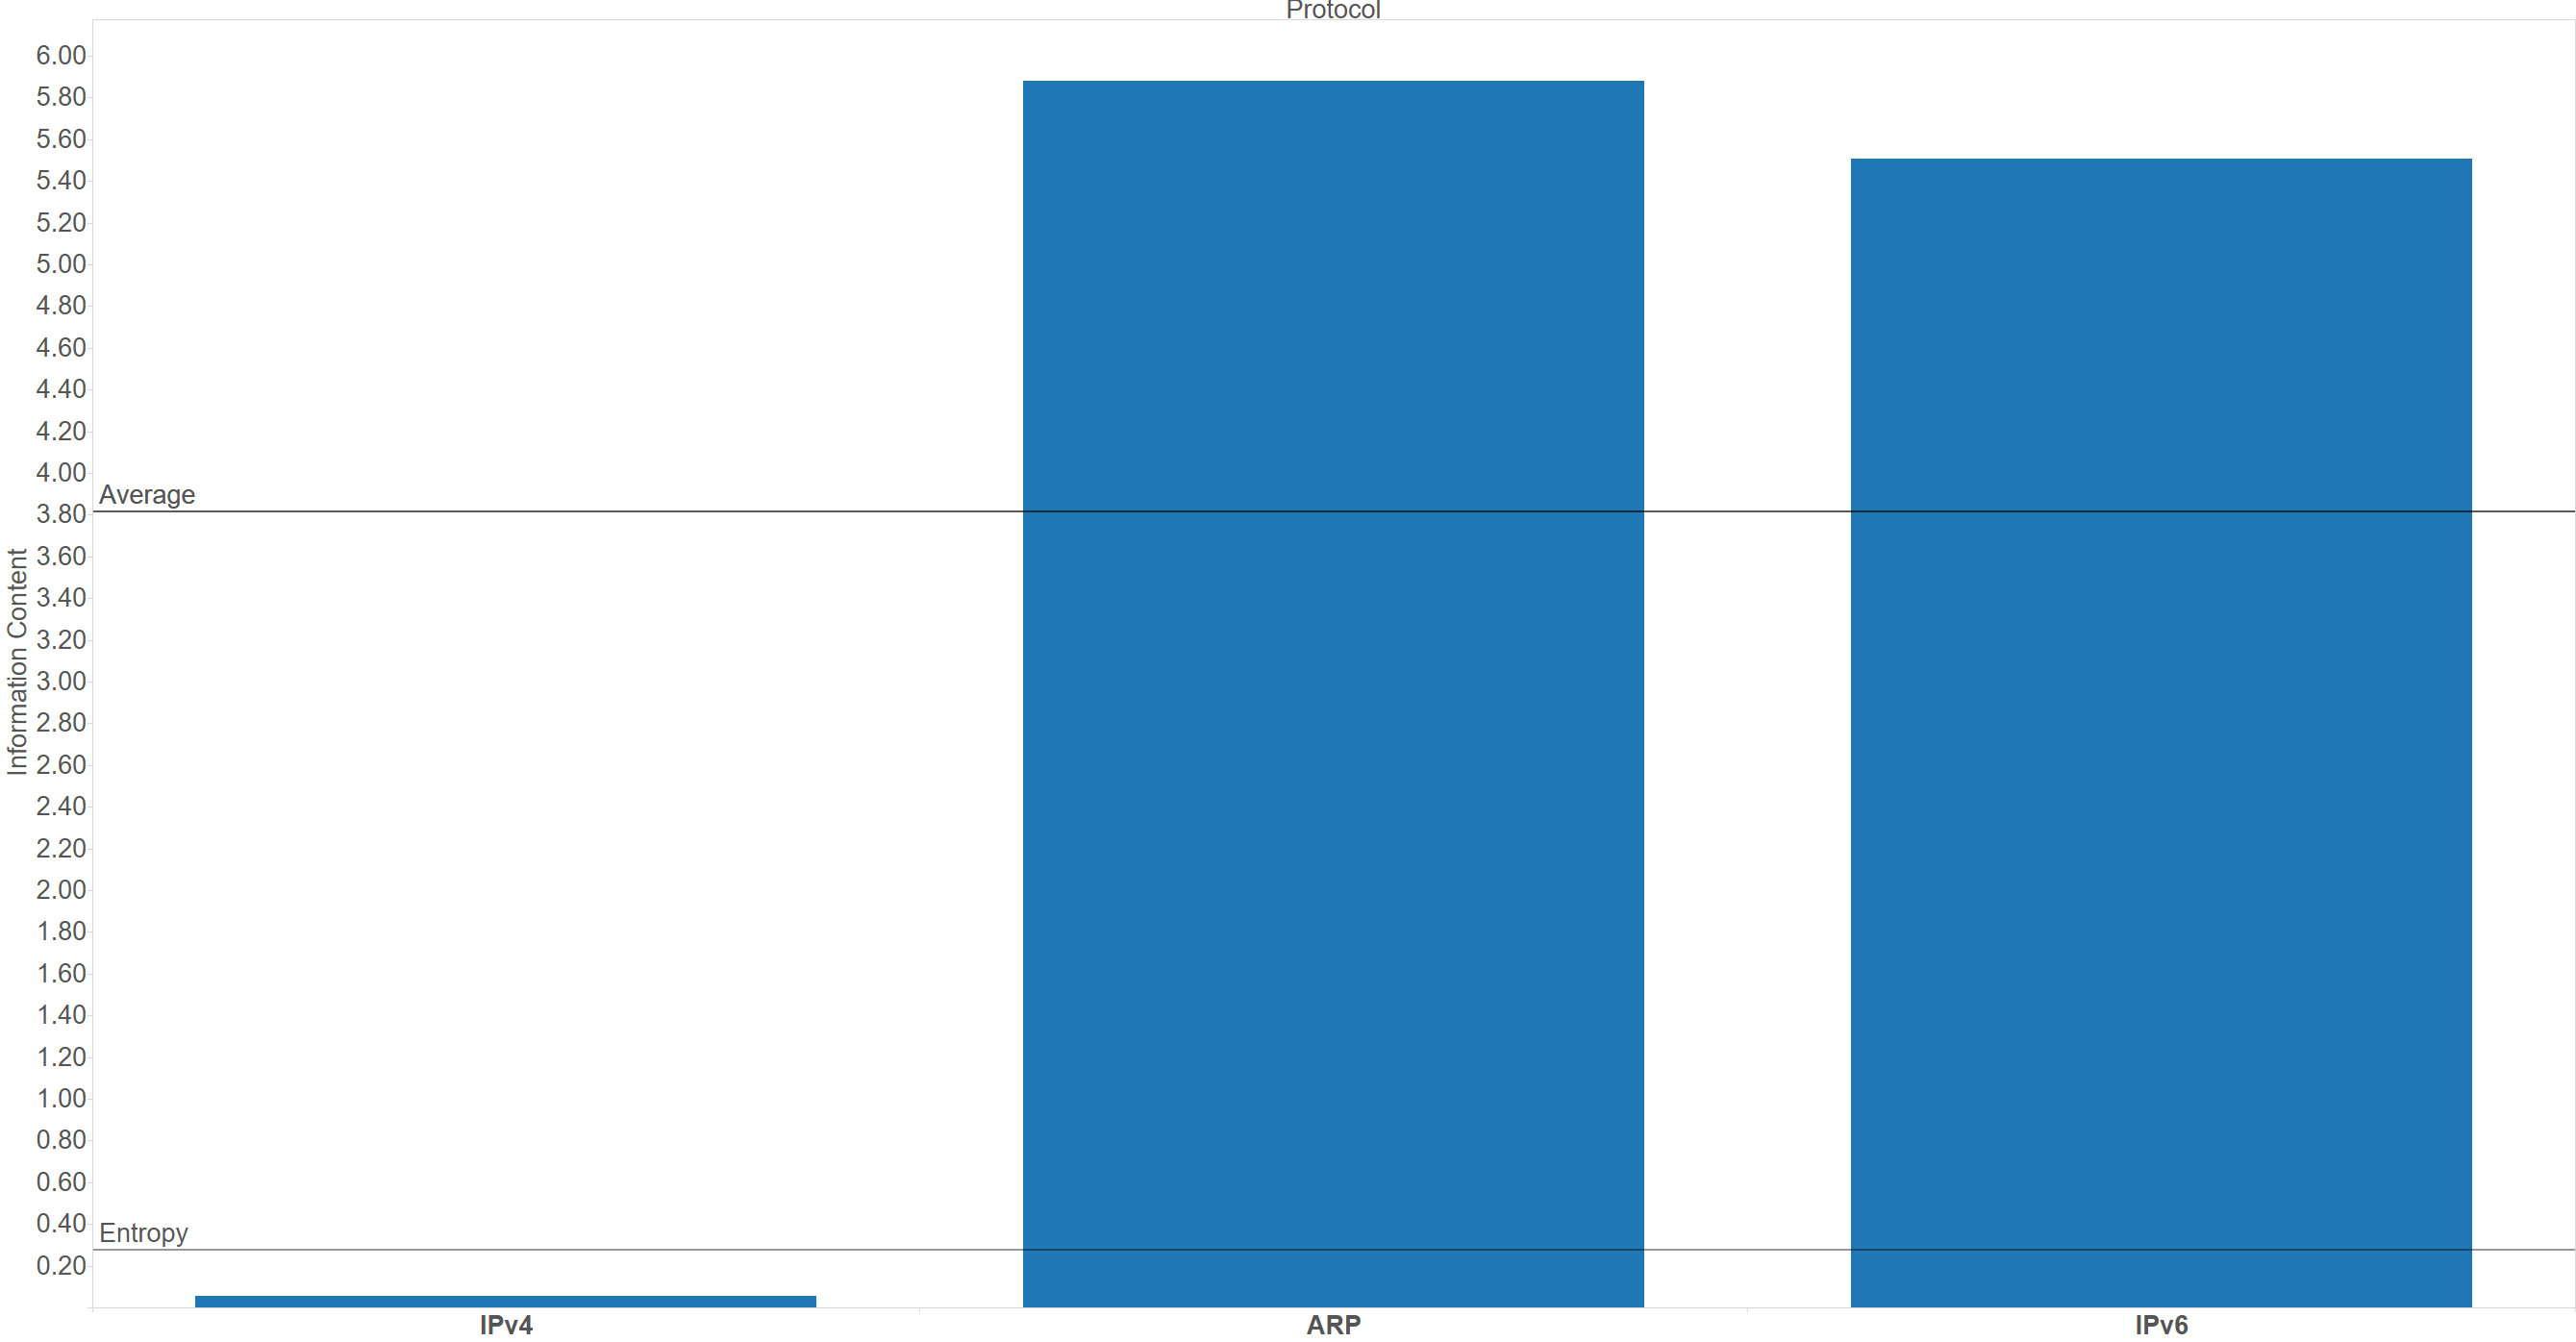

Layout of this report page (visuals, bound fields, positions):
{"tool":"tableau","page":{"name":"Protocol PDF Dashboard","canvas":[1000,1000],"units":"permille","ordinal":2},"visuals":[{"type":"worksheet","title":"Protocol PDF","mark":"Bar","rows":["Calculation_558446359775064070"],"cols":["protocol"],"box":[0,0,1000,1000]}]}

Visuals, with their boxes on the dashboard's canvas, which has no fixed pixel size, in thousandths of its width and height (x1, y1, x2, y2). These are canvas units, not pixel positions in the 2576x1342 screenshot, which may show the page scaled, cropped or inside an application window:
"Protocol PDF" worksheet (Bar marks): box(0, 0, 1000, 1000)
